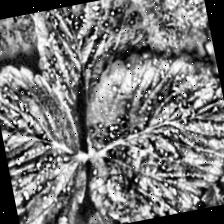Leaf Spot: (63, 36, 224, 224), (28, 0, 166, 138), (0, 53, 101, 224), (186, 154, 224, 209)
